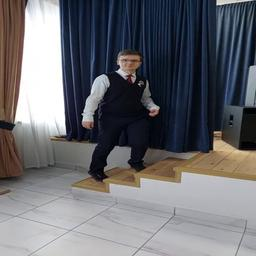person: (81, 50, 161, 183)
